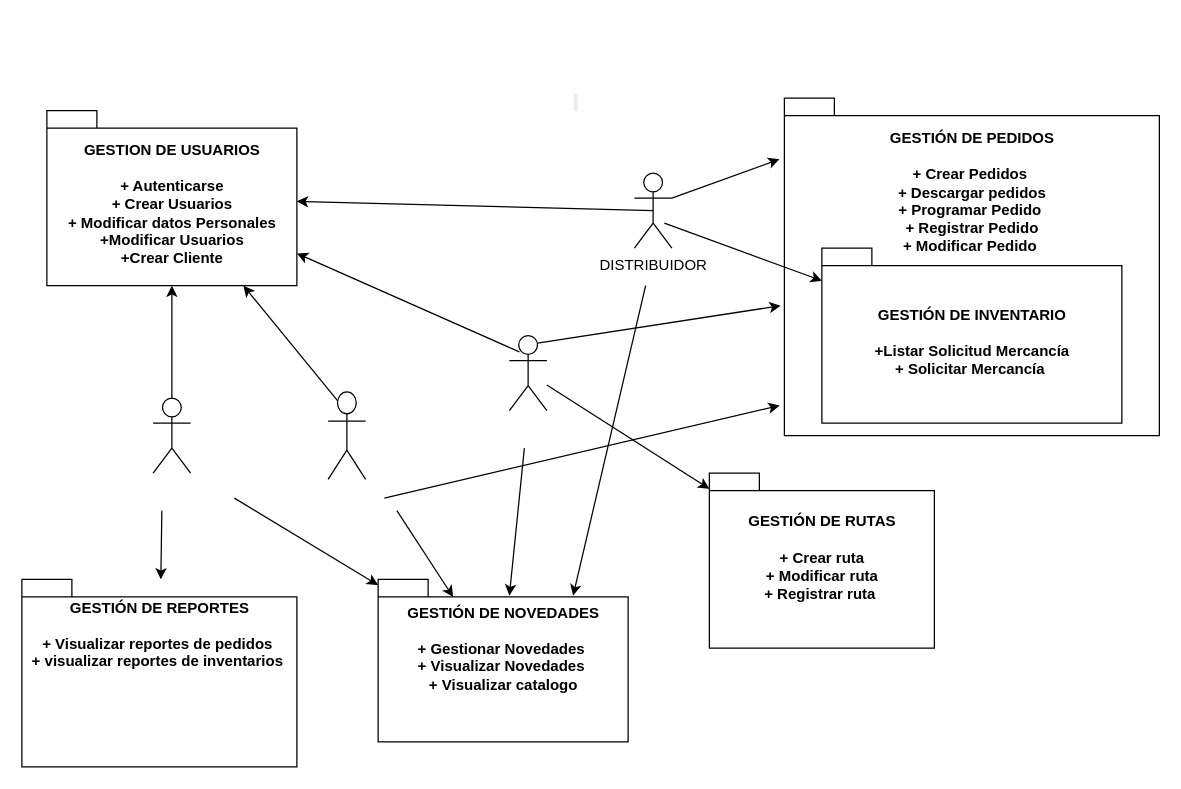
The diagram is 1181 pixels wide and 789 high, and some of its shapes have lost their labels. The shapes that lost their labels are listed below. From the top down, each one's centre as x and y in pixels, then its label:
the point at 527,372: TRANSFERENCISTA
the point at 171,435: ADMINISTRADOR
the point at 346,435: CLIENTE
